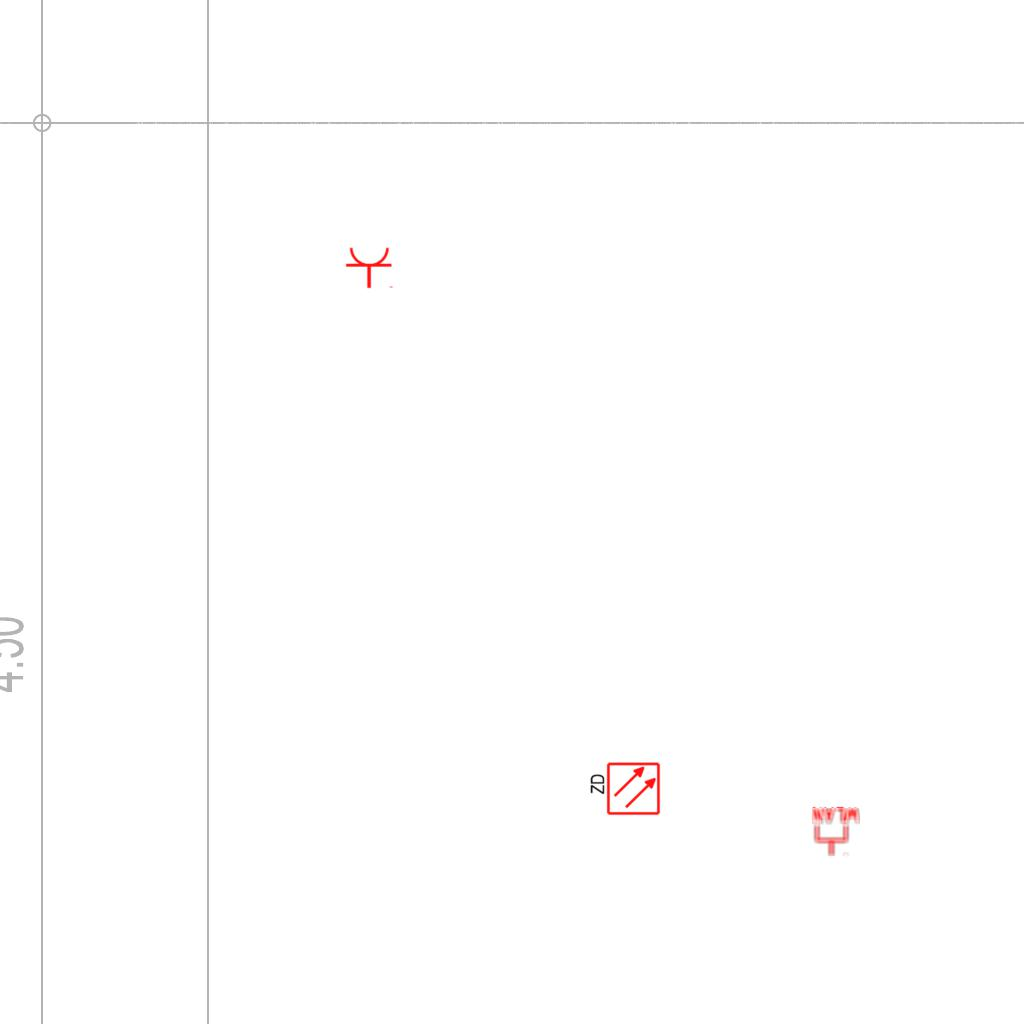Schukosteckdose_einfach: (345, 246, 395, 289)
WLAN: (810, 806, 862, 858)
ZD_Melder_in_Zwischendecke_mit_Revisionsoeffnung_mind_40_x_40_cm: (587, 761, 661, 818)
